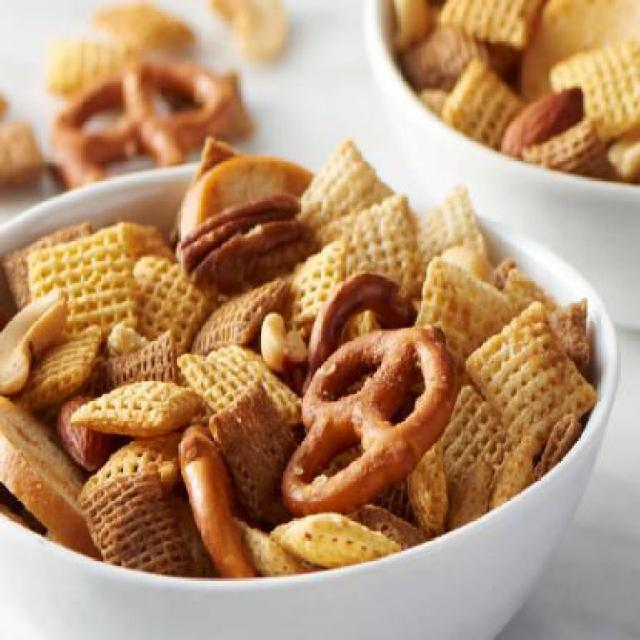Salatini packaged: (26, 178, 574, 570)
